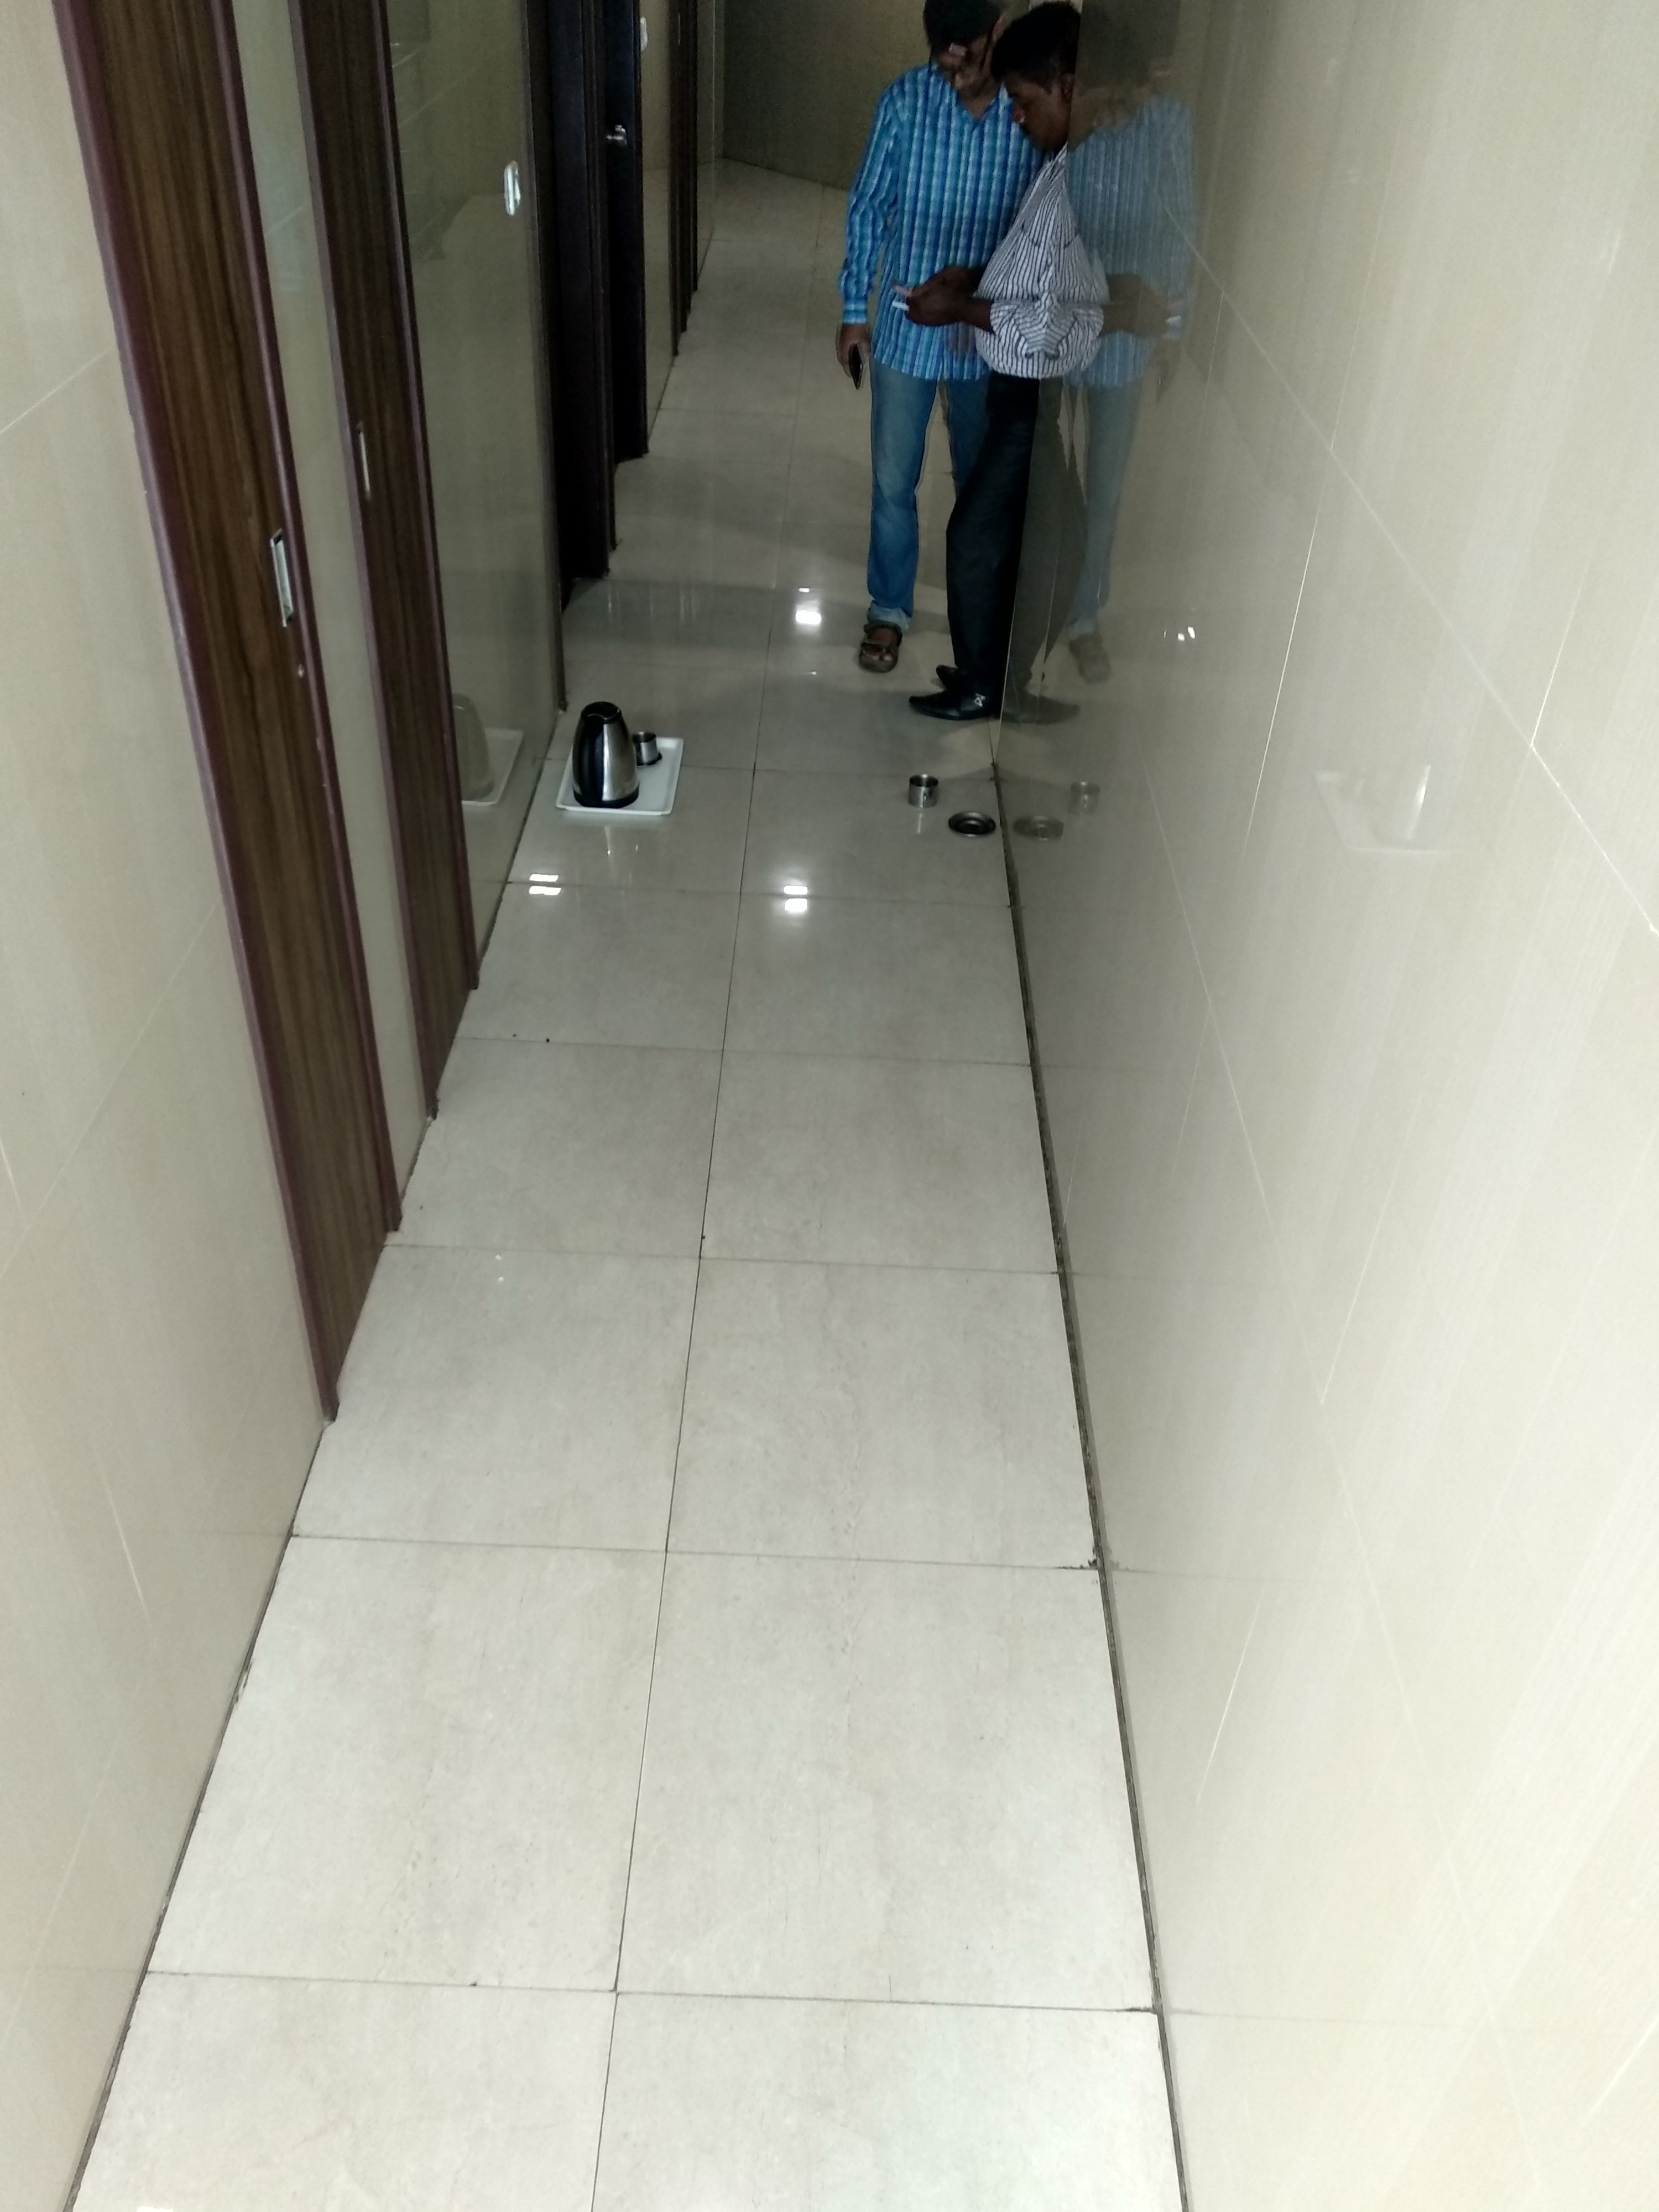CUP: (917, 775, 938, 812), (634, 732, 657, 763)
FLASK: (572, 712, 634, 801)
